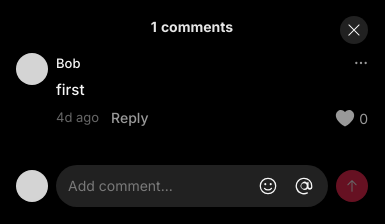
Test: CommentPanel › closes the box when a post finds the viewer restricted
The image size is (385, 224).
Expected: the icon "first" is shown, [56,79,84,102]
Type "hi" into the field labelled "Add comment...". click: x=156, y=186
box: [64,175,248,196]
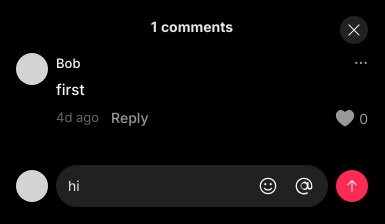
Press Enter in the field named "Add comment", box [64,175,248,196]
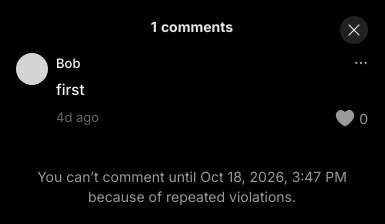
Expected: the field labelled "Add comment" is not shown
Expected: the text "You can’t comment until" is shown, [37,168,347,204]
